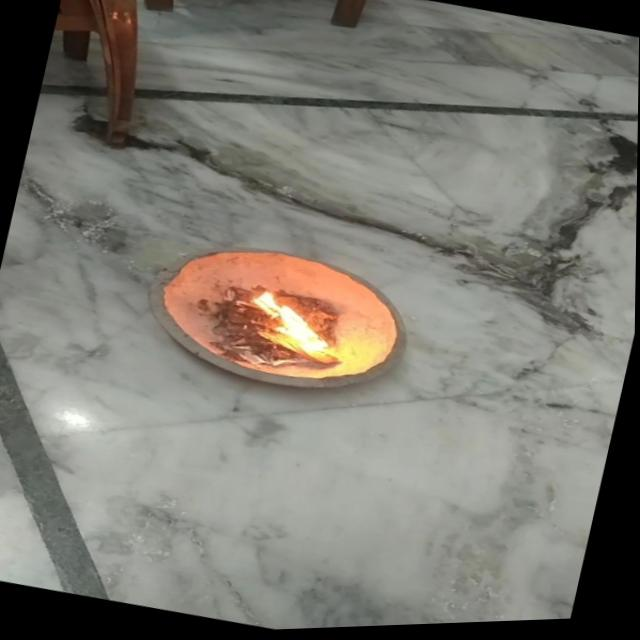fire: (237, 283, 350, 366)
